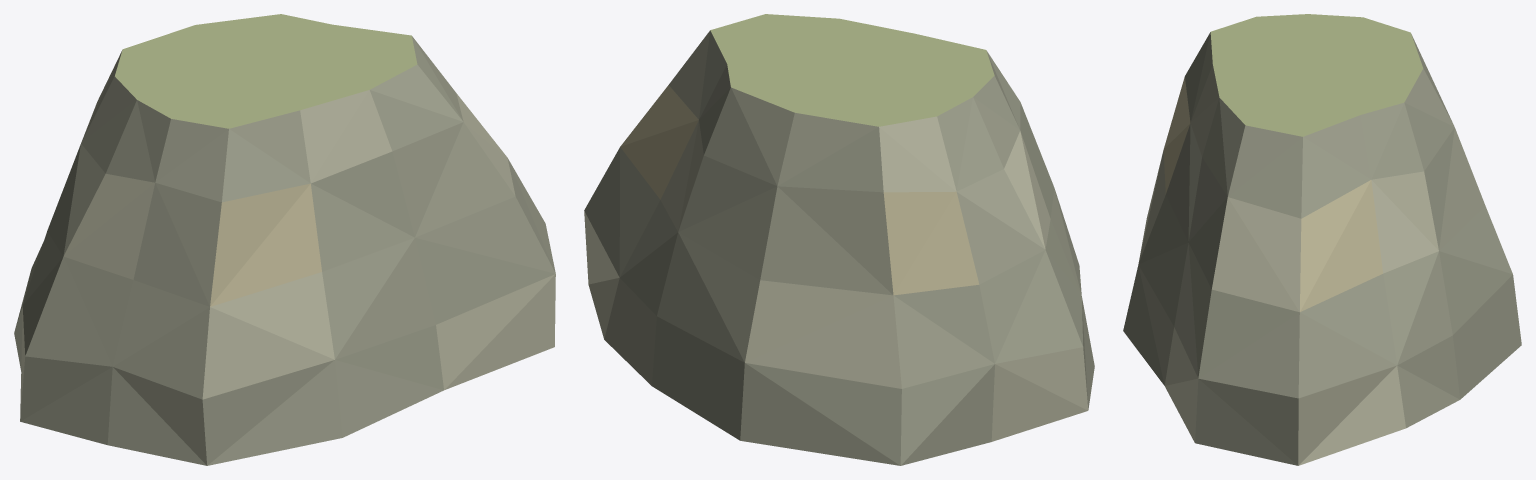
File: cliff_coastal_a.glb
The picture shows the model from 3 angles, left to right: view 1: azimuth 30°, elevation 25°; view 2: azimuth 150°, elevation 25°; view 3: azimuth 270°, elevation 25°; orthographic projection. The views are drawn at different scales.
Parts seen in each view (by area): view 1: cliff_coastal_a; view 2: cliff_coastal_a; view 3: cliff_coastal_a.
Part boxes in pixels (bbox=[...]): cliff_coastal_a: bbox=[14, 14, 555, 465]; cliff_coastal_a: bbox=[584, 14, 1094, 465]; cliff_coastal_a: bbox=[1123, 14, 1521, 465].
Bounding box in the file's own units: 6.13 × 3.4 × 4.39.
